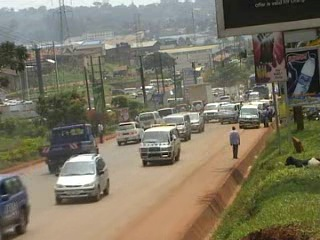Car: (52, 150, 110, 206), (0, 172, 31, 237), (114, 118, 148, 148), (184, 108, 206, 133), (202, 100, 221, 123), (175, 102, 195, 115), (188, 97, 204, 112)
